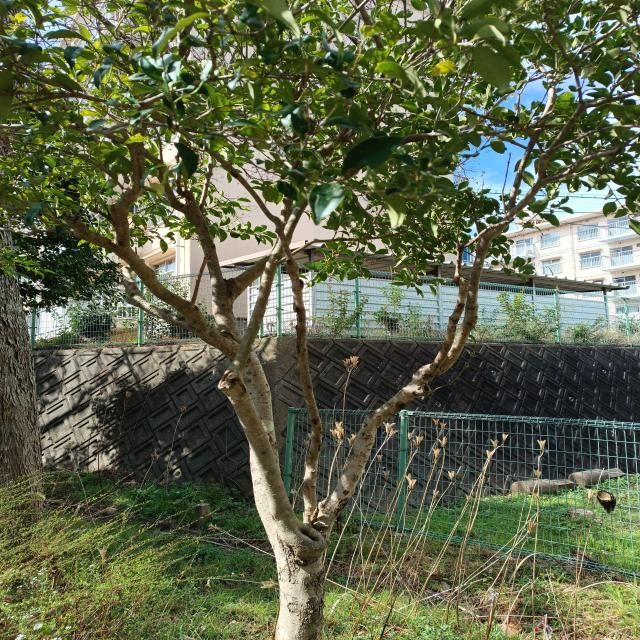Branch: (315, 364, 440, 533), (211, 278, 292, 525), (229, 140, 333, 301), (433, 205, 516, 376)
Twig: (217, 143, 345, 450), (0, 123, 222, 293), (66, 213, 226, 349), (430, 218, 516, 369), (517, 134, 638, 215), (538, 92, 638, 179), (112, 112, 148, 245), (118, 265, 189, 330), (456, 102, 544, 154), (554, 125, 640, 149)
